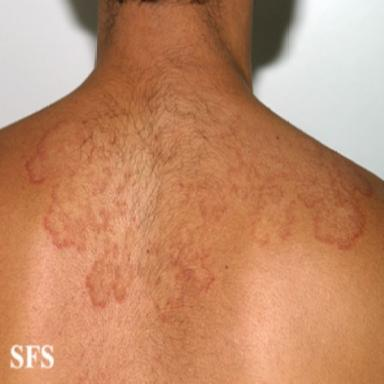Tinea-Corporis: (27, 115, 371, 321)
